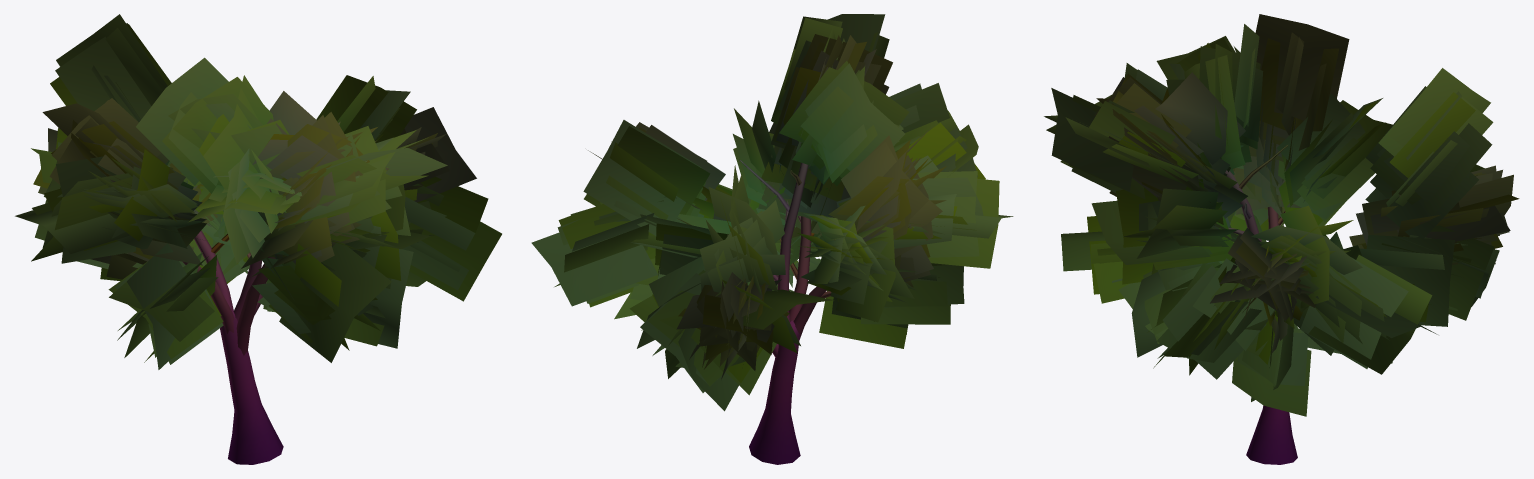
The model's file is veg_oak_c.glb.
3 renders of one model, left to right at view 1: azimuth 30°, elevation 25°; view 2: azimuth 150°, elevation 25°; view 3: azimuth 270°, elevation 25°, orthographic. The views are drawn at different scales.
Visible parts, largest first — view 1: veg_oak_c_LOD0; view 2: veg_oak_c_LOD0; view 3: veg_oak_c_LOD0.
Boxes of the visible parts, x1,y1,x2,y2 form: veg_oak_c_LOD0: (15, 14, 501, 464); veg_oak_c_LOD0: (531, 14, 1013, 464); veg_oak_c_LOD0: (1044, 14, 1519, 464).
Size of what is drawn, in the model's own units: 2.37 by 2.2 by 2.35.
